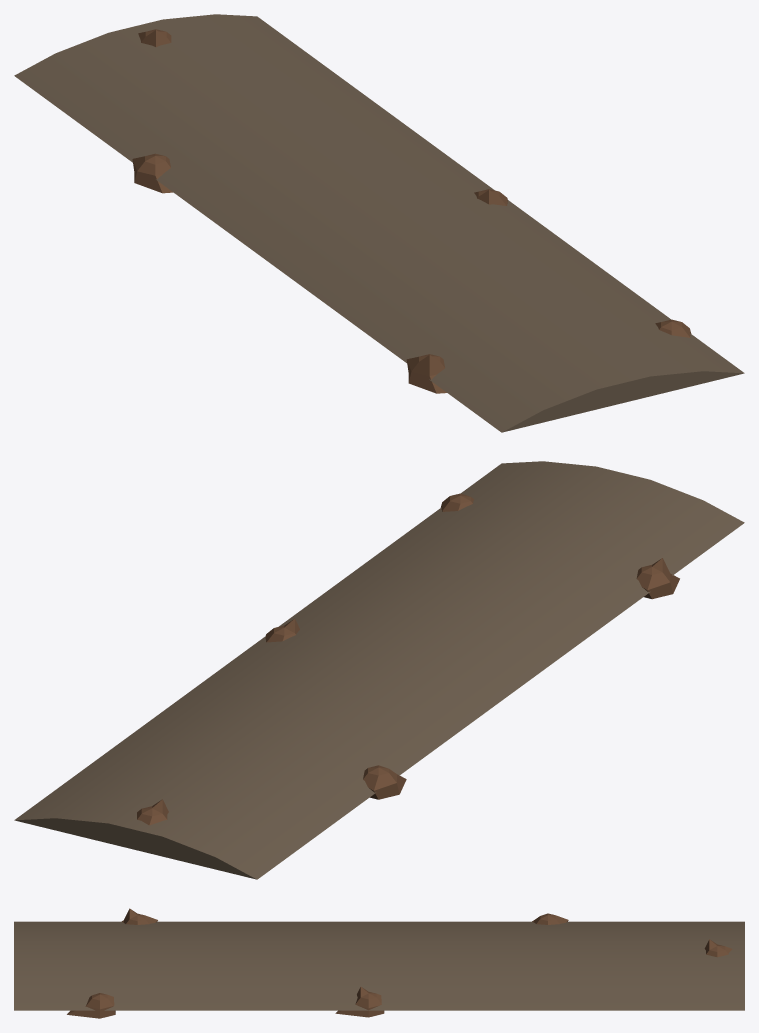
File: SM_dat_trong_trot_2.fbx
3 renders of one model, top to bottom at view 1: azimuth 30°, elevation 25°; view 2: azimuth 150°, elevation 25°; view 3: azimuth 270°, elevation 25°, orthographic. The views are drawn at different scales.
Parts seen in each view (by area): view 1: dat_trong_trot; view 2: dat_trong_trot; view 3: dat_trong_trot.
Part boxes in pixels (x1,y1,x2,y2): dat_trong_trot: (14, 14, 744, 432); dat_trong_trot: (14, 461, 744, 879); dat_trong_trot: (14, 908, 744, 1018).
Bounding box in the file's own units: 30.92 × 4.88 × 101.
